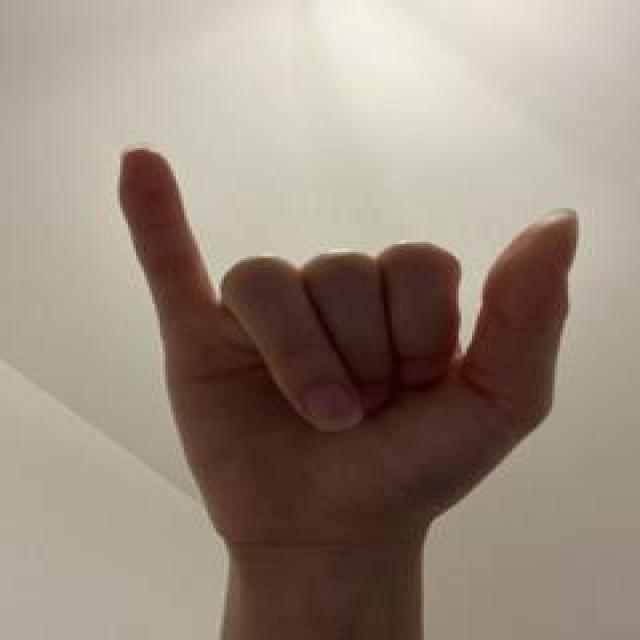Y: (104, 138, 589, 546)
